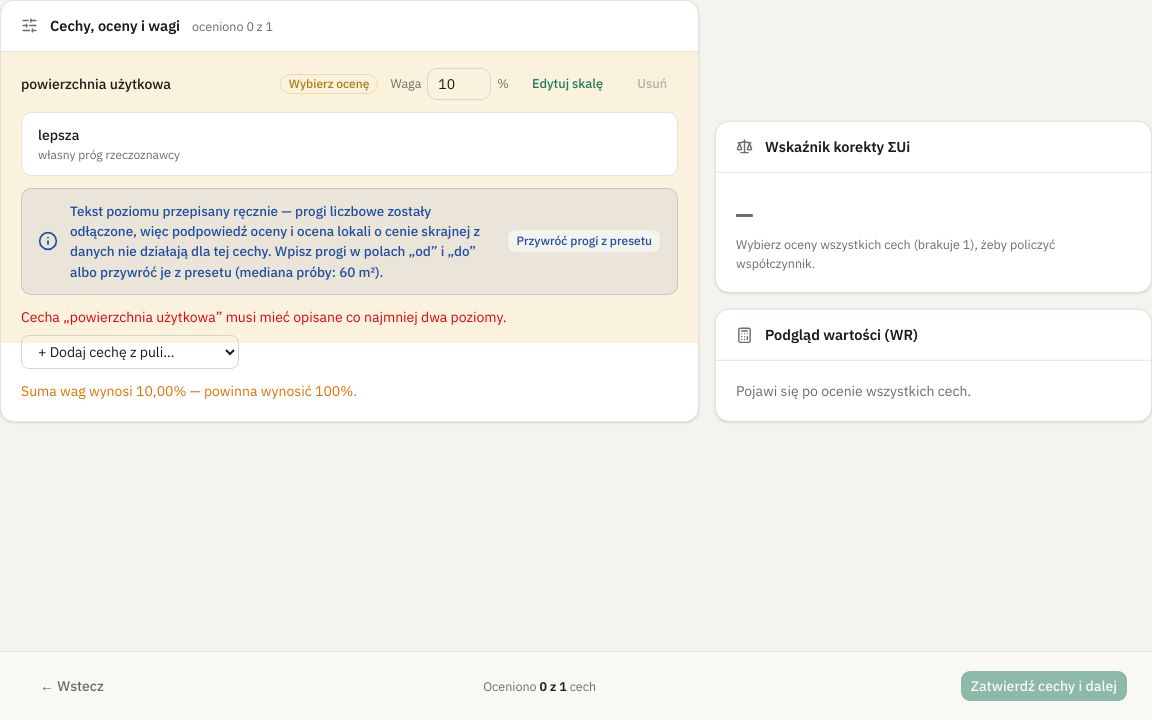
Test: StepFeatures — rating-scale definitions (Slice 7, migrated Task 10) › an already-filled powierzchnia definition is not overwritten by the median
Click the button "Edytuj skalę". click: (568, 84)
box: [521,70,614,98]
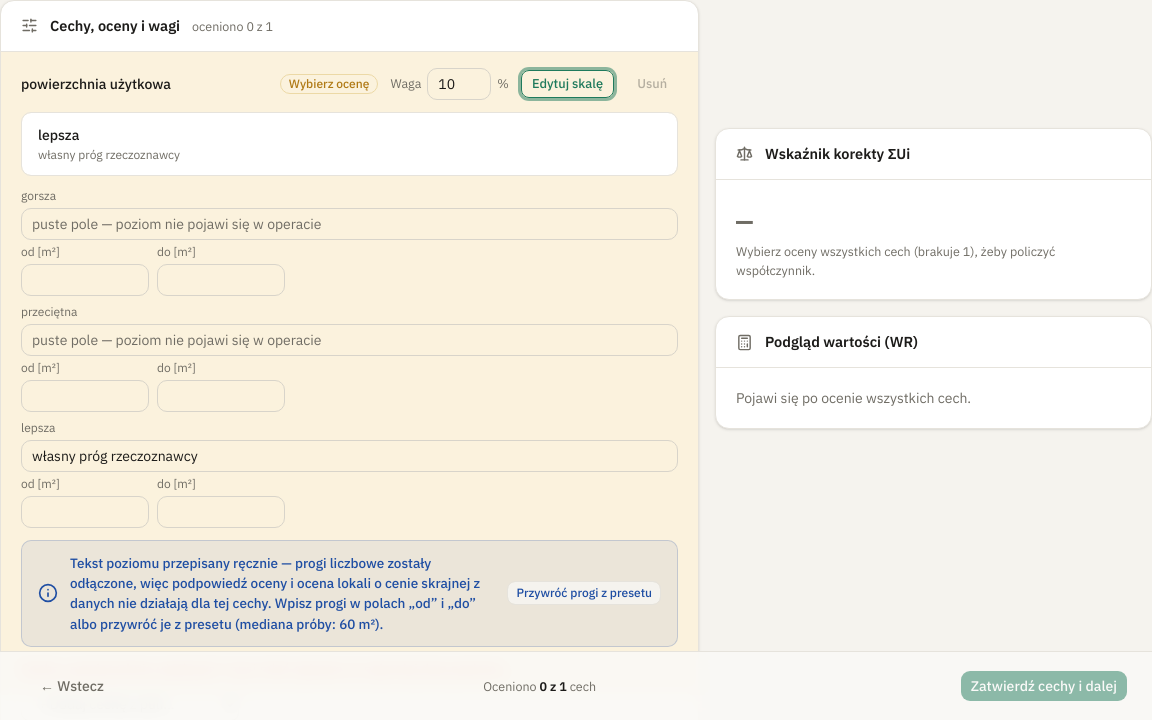
Result: the field with test id "feature-def-powierzchnia-uzytkowa-lepsza" holds "własny próg rzeczoznawcy" at [21,440,678,472]
